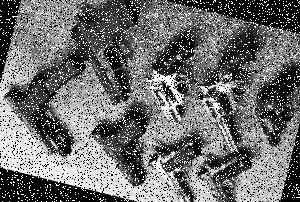handgun: (0, 40, 95, 175), (191, 27, 283, 150), (49, 0, 148, 114), (78, 108, 156, 195), (138, 30, 201, 134), (243, 53, 300, 156), (142, 133, 206, 202), (195, 151, 269, 202)
